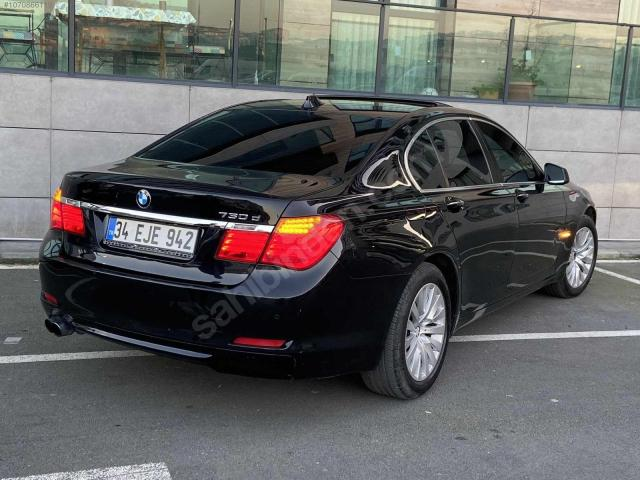plaka: (104, 217, 198, 259)
